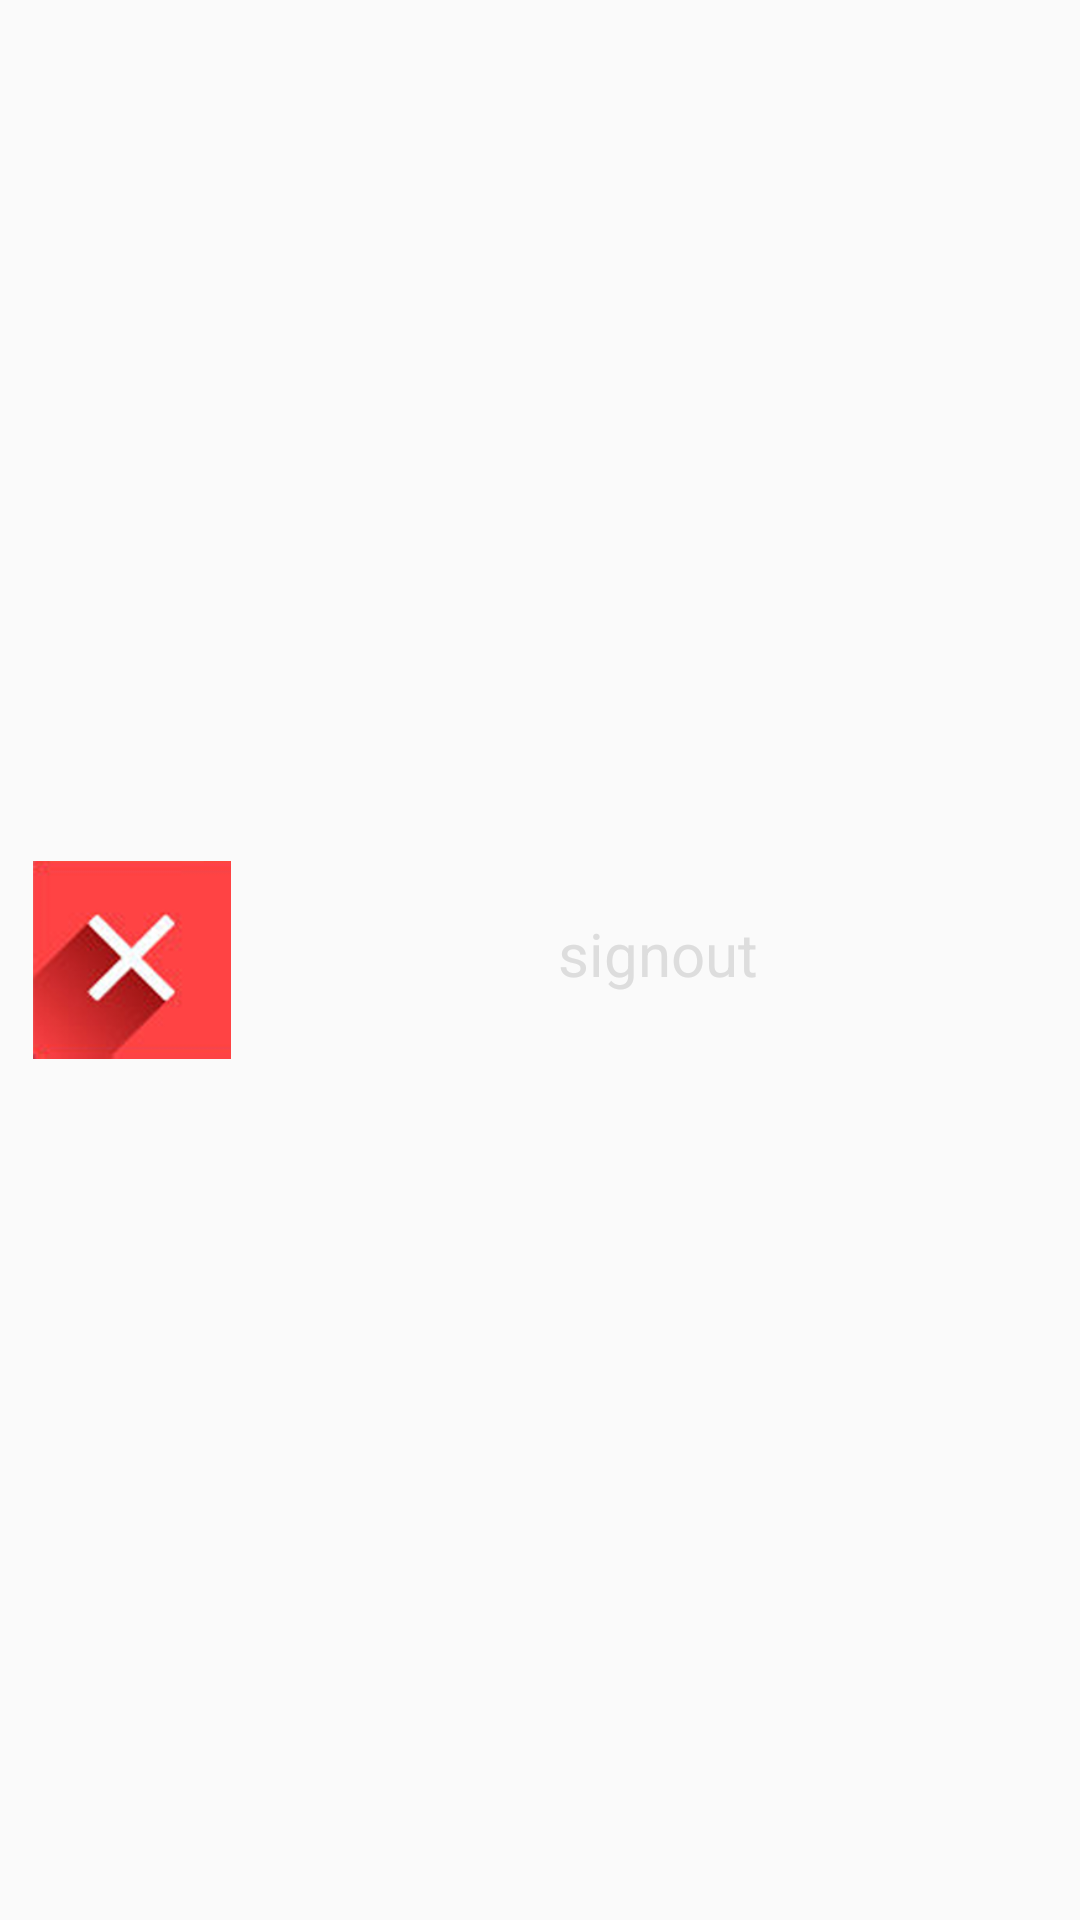

Where icons sit on this 1080 × 1920 app screen, as bbox=[x1, y1, x2, y2]:
close: bbox=[33, 861, 231, 1059]
